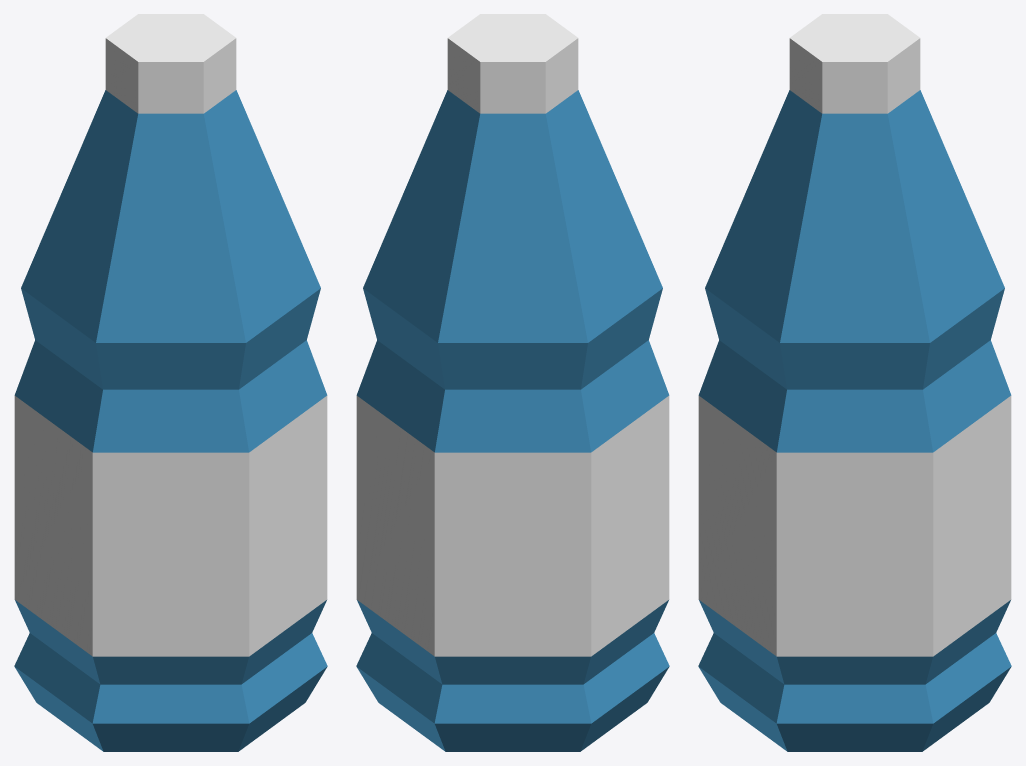
File: Bottle2.fbx
The picture shows the model from 3 angles, left to right: view 1: azimuth 30°, elevation 25°; view 2: azimuth 150°, elevation 25°; view 3: azimuth 270°, elevation 25°; orthographic projection.
Visible parts, largest first — view 1: Bottle; view 2: Bottle; view 3: Bottle.
Part boxes in pixels (x1=…): Bottle: x1=14, y1=14, x2=327, y2=751; Bottle: x1=356, y1=14, x2=669, y2=751; Bottle: x1=698, y1=14, x2=1011, y2=751.
Bounding box in the file's own units: 202 × 545 × 233.
